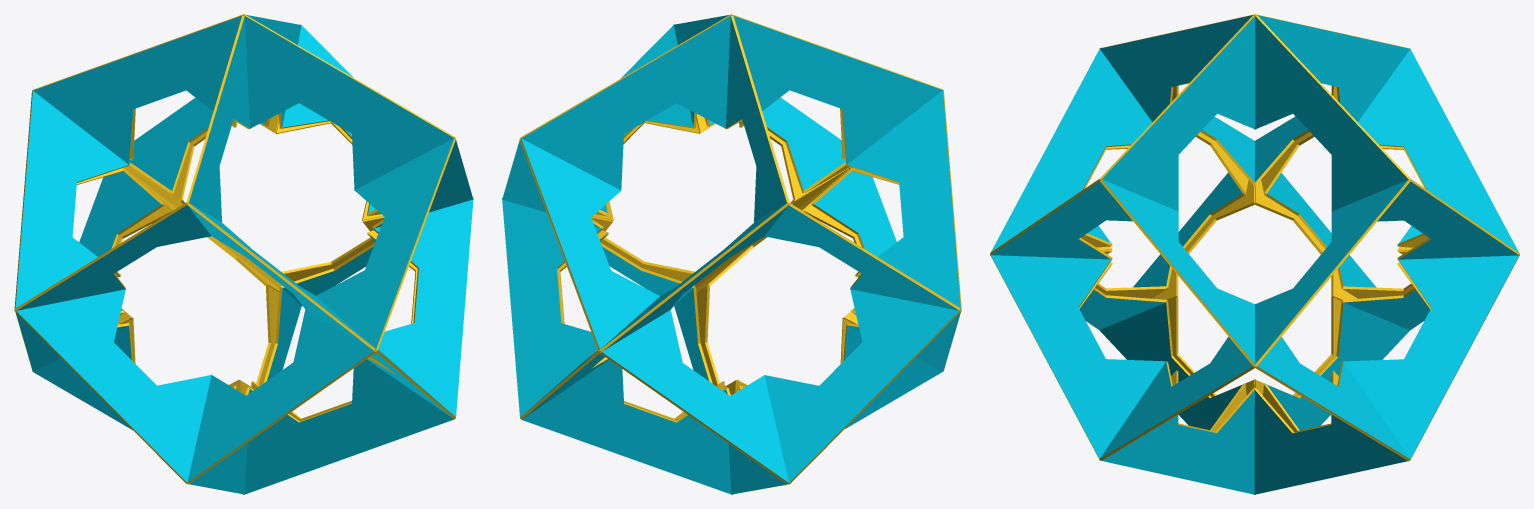
The model's file is Mobius48bS.glb.
3 renders of one model, left to right at view 1: azimuth 30°, elevation 25°; view 2: azimuth 150°, elevation 25°; view 3: azimuth 270°, elevation 25°, orthographic.
Parts seen in each view (by area): view 1: Mesh_0003_1, Mesh_0003; view 2: Mesh_0003_1, Mesh_0003; view 3: Mesh_0003_1, Mesh_0003.
Boxes of the visible parts, <box> form: Mesh_0003_1: <box>15,14,473,494</box>; Mesh_0003: <box>14,14,455,494</box>; Mesh_0003_1: <box>502,15,960,494</box>; Mesh_0003: <box>519,14,961,494</box>; Mesh_0003_1: <box>990,15,1519,494</box>; Mesh_0003: <box>990,14,1519,461</box>.
Bounding box in the file's own units: 9.71 × 9.71 × 9.71.
